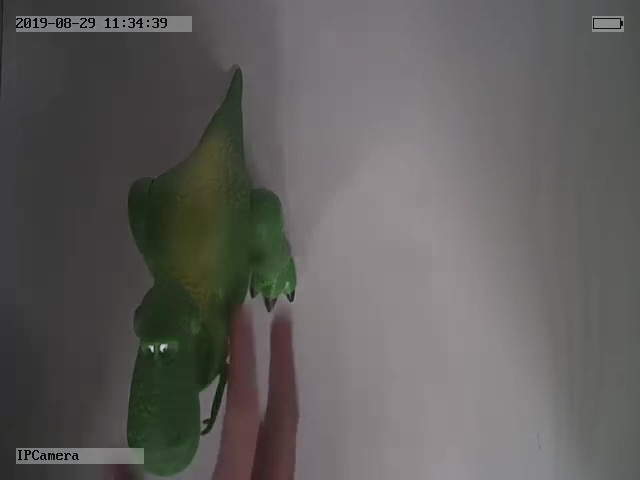rex: (124, 66, 298, 475)
